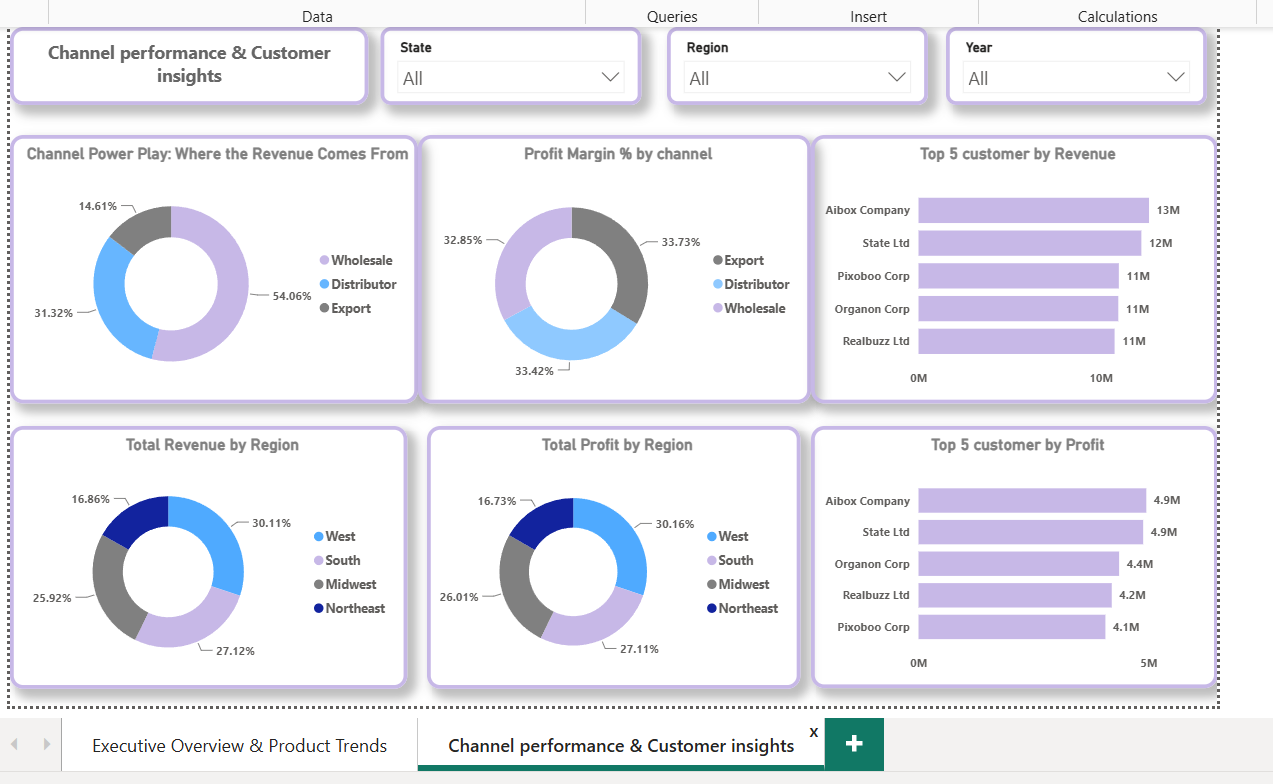

The dashboard page shown, as its layout file describes it:
{"tool":"powerbi","page":{"name":" Channel performance & Customer insights","canvas":[1280,720],"ordinal":1},"visuals":[{"type":"textbox","box":[0,0,380.2,82.7],"z":0},{"type":"slicer","fields":{"Values":["Sales_data.us_region"]},"box":[696.7,0,276.8,82.7],"z":1},{"type":"slicer","fields":{"Values":["Sales_data.state"]},"box":[392.9,0,276.8,82.7],"z":2},{"type":"slicer","fields":{"Values":["Sales_data.Year"]},"box":[992.5,0,276.8,82.7],"z":3},{"type":"donutChart","title":"Channel Power Play: Where the Revenue Comes From","fields":{"Category":["Sales_data.channel"],"Y":["Measure_.total_revenue"]},"box":[0,114.5,432.6,284.7],"z":4},{"type":"donutChart","fields":{"Y":["Measure_.Profit Margin %"],"Category":["Sales_data.channel"]},"box":[432.6,114.5,416.7,284.7],"z":5},{"type":"barChart","title":"Top 5 customer by Revenue","fields":{"Y":["Measure_.total_revenue"],"Category":["Sales_data.customer_name"]},"box":[849.4,114.5,431.1,284.7],"z":6},{"type":"donutChart","title":"Total Revenue by Region","fields":{"Y":["Measure_.total_revenue"],"Category":["Sales_data.us_region"]},"box":[0,423.1,421.5,278.4],"z":7},{"type":"donutChart","title":"Total Profit by Region","fields":{"Category":["Sales_data.us_region"],"Y":["Measure_.total_profit"]},"box":[442.2,423.1,396.1,278.4],"z":8},{"type":"barChart","title":"Top 5 customer by Profit","fields":{"Y":["Measure_.total_profit"],"Category":["Sales_data.customer_name"]},"box":[849,423,431,278],"z":9}]}

Visuals, with their boxes in screenshot pixels (x1, y1, x2, y2):
textbox: bbox=[3, 23, 363, 101]
slicer - Sales_data.us_region: bbox=[662, 23, 924, 101]
slicer - Sales_data.state: bbox=[375, 23, 637, 101]
slicer - Sales_data.Year: bbox=[942, 23, 1204, 101]
"Channel Power Play: Where the Revenue Comes From" donutChart: bbox=[3, 132, 413, 401]
donutChart - Measure_.Profit Margin % x Sales_data.channel: bbox=[413, 132, 807, 401]
"Top 5 customer by Revenue" barChart: bbox=[807, 132, 1215, 401]
"Total Revenue by Region" donutChart: bbox=[3, 423, 402, 687]
"Total Profit by Region" donutChart: bbox=[422, 423, 796, 687]
"Top 5 customer by Profit" barChart: bbox=[806, 423, 1214, 686]
